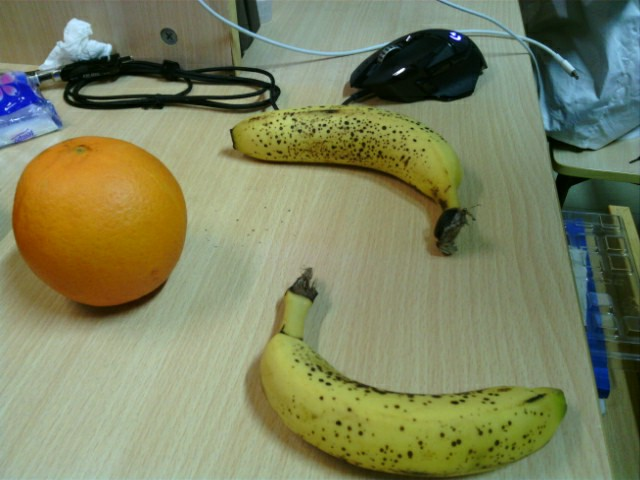normal_banana: (257, 269, 571, 480), (230, 107, 472, 259)
normal_orange: (14, 134, 189, 304)
